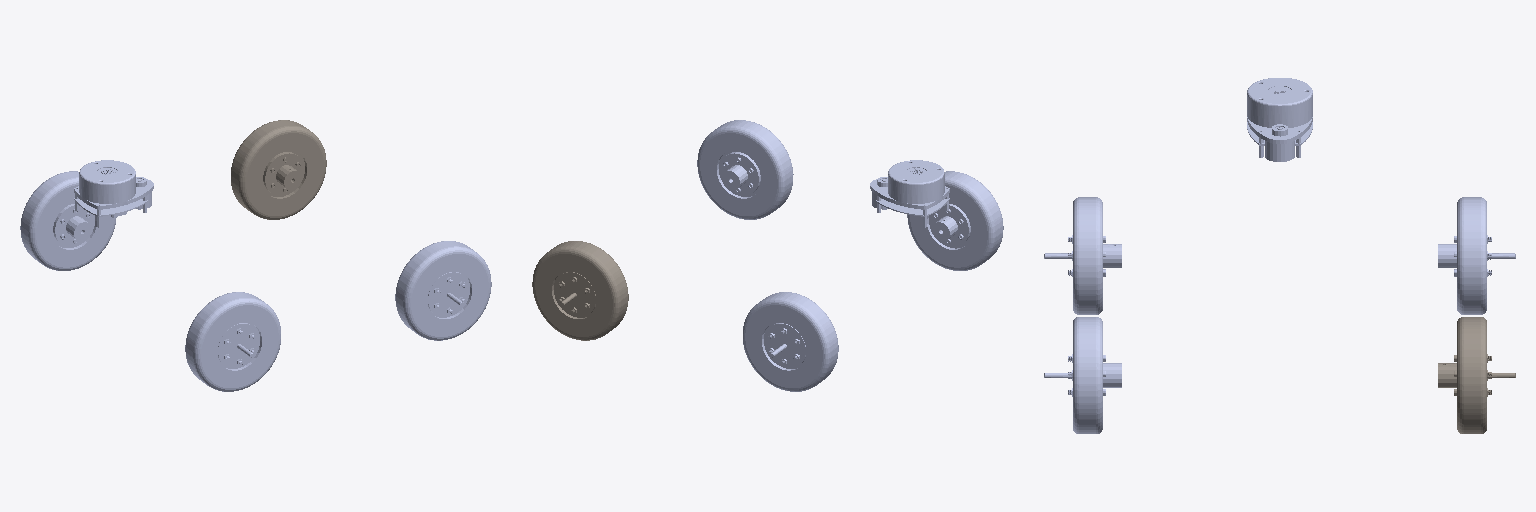
The robot description file, URDF, robot "hello":
<?xml version="1.0" encoding="utf-8"?>
<!-- This URDF was automatically created by SolidWorks to URDF Exporter! Originally created by [author] ([email redacted]) 
     Commit Version: 1.6.0-1-g15f4949  Build Version: 1.6.7594.29634
     For more information, please see http://wiki.ros.org/sw_urdf_exporter -->
<robot
  name="hello">
  <link
    name="base_link">
    <inertial>
      <origin
        xyz="-0.0115961375393338 0.141112194162708 4.16006760022607E-06"
        rpy="0 0 0" />
      <mass
        value="9.86715620266818" />
      <inertia
        ixx="0.132677989046086"
        ixy="-9.70160338003661E-05"
        ixz="-3.75107838296442E-07"
        iyy="0.260475914071983"
        iyz="6.96544013264117E-10"
        izz="0.137987912791742" />
    </inertial>
    <visual>
      <origin
        xyz="0 0 0"
        rpy="0 0 0" />
      <geometry>
        <mesh
          filename="package://hello/meshes/base_link.STL" />
      </geometry>
      <material
        name="">
        <color
          rgba="0.776470588235294 0.756862745098039 0.737254901960784 1" />
      </material>
    </visual>
    <collision>
      <origin
        xyz="0 0 0"
        rpy="0 0 0" />
      <geometry>
        <mesh
          filename="package://hello/meshes/base_link.STL" />
      </geometry>
    </collision>
  </link>
  <link
    name="Wheel1">
    <inertial>
      <origin
        xyz="0.0358925313422561 1.33013962899664E-08 -1.40306321785855E-06"
        rpy="0 0 0" />
      <mass
        value="1.08683454285844" />
      <inertia
        ixx="0.00199172568972123"
        ixy="4.18773380188281E-10"
        ixz="-4.24537357161986E-08"
        iyy="0.0010927579015596"
        iyz="-1.3053432125357E-10"
        izz="0.00109277152504694" />
    </inertial>
    <visual>
      <origin
        xyz="0 0 0"
        rpy="0 0 0" />
      <geometry>
        <mesh
          filename="package://hello/meshes/Wheel1.STL" />
      </geometry>
      <material
        name="">
        <color
          rgba="0.792156862745098 0.819607843137255 0.933333333333333 1" />
      </material>
    </visual>
    <collision>
      <origin
        xyz="0 0 0"
        rpy="0 0 0" />
      <geometry>
        <mesh
          filename="package://hello/meshes/Wheel1.STL" />
      </geometry>
    </collision>
  </link>
  <joint
    name="Wheel2"
    type="continuous">
    <origin
      xyz="-0.150000000000006 0.168 0.062499999999979"
      rpy="3.13669699771824 0 1.5707963267949" />
    <parent
      link="base_link" />
    <child
      link="Wheel1" />
    <axis
      xyz="1 0 0" />
  </joint>
  <link
    name="Wheel3">
    <inertial>
      <origin
        xyz="0.0358925313421825 1.41750076398939E-08 1.40305468546154E-06"
        rpy="0 0 0" />
      <mass
        value="1.08683454285396" />
      <inertia
        ixx="0.00199172568972123"
        ixy="4.12609301156856E-10"
        ixz="4.24537960605034E-08"
        iyy="0.00109275790167215"
        iyz="1.36281157753119E-10"
        izz="0.00109277152493439" />
    </inertial>
    <visual>
      <origin
        xyz="0 0 0"
        rpy="0 0 0" />
      <geometry>
        <mesh
          filename="package://hello/meshes/Wheel3.STL" />
      </geometry>
      <material
        name="">
        <color
          rgba="0.792156862745098 0.819607843137255 0.933333333333333 1" />
      </material>
    </visual>
    <collision>
      <origin
        xyz="0 0 0"
        rpy="0 0 0" />
      <geometry>
        <mesh
          filename="package://hello/meshes/Wheel3.STL" />
      </geometry>
    </collision>
  </link>
  <joint
    name="Wheel4"
    type="continuous">
    <origin
      xyz="-0.150000000000008 -0.168 0.062499999999968"
      rpy="-3.13669699771824 0 -1.5707963267949" />
    <parent
      link="base_link" />
    <child
      link="Wheel3" />
    <axis
      xyz="1 0 0" />
  </joint>
  <link
    name="Wheel5">
    <inertial>
      <origin
        xyz="0.0358925313422561 -4.36851138596595E-10 -1.40312619897887E-06"
        rpy="0 0 0" />
      <mass
        value="1.08683454285844" />
      <inertia
        ixx="0.00199172568972123"
        ixy="3.0821872261417E-12"
        ixz="-4.2455800992384E-08"
        iyy="0.0010927579003096"
        iyz="2.87399277655229E-12"
        izz="0.00109277152629695" />
    </inertial>
    <visual>
      <origin
        xyz="0 0 0"
        rpy="0 0 0" />
      <geometry>
        <mesh
          filename="package://hello/meshes/Wheel5.STL" />
      </geometry>
      <material
        name="">
        <color
          rgba="0.792156862745098 0.819607843137255 0.933333333333333 1" />
      </material>
    </visual>
    <collision>
      <origin
        xyz="0 0 0"
        rpy="0 0 0" />
      <geometry>
        <mesh
          filename="package://hello/meshes/Wheel5.STL" />
      </geometry>
    </collision>
  </link>
  <joint
    name="Wheel6"
    type="continuous">
    <origin
      xyz="0.150000000000006 -0.168 0.0624999999999788"
      rpy="-3.13669699771824 0 -1.5707963267949" />
    <parent
      link="base_link" />
    <child
      link="Wheel5" />
    <axis
      xyz="1 0 0" />
  </joint>
  <link
    name="Wheel7">
    <inertial>
      <origin
        xyz="0.0358925313421826 1.21536136293843E-06 7.01184832307966E-07"
        rpy="0 0 0" />
      <mass
        value="1.08683454285396" />
      <inertia
        ixx="0.00199172568972123"
        ixy="3.6766261093403E-08"
        ixz="2.1230569742561E-08"
        iyy="0.00109276812228902"
        iyz="5.89878862582486E-09"
        izz="0.00109276130431752" />
    </inertial>
    <visual>
      <origin
        xyz="0 0 0"
        rpy="0 0 0" />
      <geometry>
        <mesh
          filename="package://hello/meshes/Wheel7.STL" />
      </geometry>
      <material
        name="">
        <color
          rgba="0.650980392156863 0.619607843137255 0.588235294117647 1" />
      </material>
    </visual>
    <collision>
      <origin
        xyz="0 0 0"
        rpy="0 0 0" />
      <geometry>
        <mesh
          filename="package://hello/meshes/Wheel7.STL" />
      </geometry>
    </collision>
  </link>
  <joint
    name="Wheel8"
    type="continuous">
    <origin
      xyz="0.150000000000006 0.168 0.0624999999999788"
      rpy="-2.09929075826474 0 1.5707963267949" />
    <parent
      link="base_link" />
    <child
      link="Wheel7" />
    <axis
      xyz="1 0 0" />
  </joint>
  <link
    name="Lidar">
    <inertial>
      <origin
        xyz="-0.0074834698833364 0.0106681277328402 9.19261110886561E-05"
        rpy="0 0 0" />
      <mass
        value="1.33076913637071" />
      <inertia
        ixx="0.00061491794045409"
        ixy="0.00015824302591117"
        ixz="8.01984318975301E-07"
        iyy="0.00109815200027136"
        iyz="3.0916298658758E-06"
        izz="0.000960697335617222" />
    </inertial>
    <visual>
      <origin
        xyz="0 0 0"
        rpy="0 0 0" />
      <geometry>
        <mesh
          filename="package://hello/meshes/Lidar.STL" />
      </geometry>
      <material
        name="">
        <color
          rgba="0.792156862745098 0.819607843137255 0.933333333333333 1" />
      </material>
    </visual>
    <collision>
      <origin
        xyz="0 0 0"
        rpy="0 0 0" />
      <geometry>
        <mesh
          filename="package://hello/meshes/Lidar.STL" />
      </geometry>
    </collision>
  </link>
  <joint
    name="Lidar1"
    type="fixed">
    <origin
      xyz="-0.19775 0 0.194099999999983"
      rpy="1.5707963267949 0 0" />
    <parent
      link="base_link" />
    <child
      link="Lidar" />
    <axis
      xyz="0 0 0" />
  </joint>
</robot>

--- Render facts (derived) ---
3 views of the same robot in one strip: view 1: azimuth 30°, elevation 25°; view 2: azimuth 150°, elevation 25°; view 3: azimuth 270°, elevation 25° (orthographic).
Model hello with 6 links and 5 joints (4 continuous, 1 fixed), rooted at base_link, posed all joints at 0.
Links seen in each view (by area): view 1: Wheel5, Wheel3, Wheel7, Wheel1, Lidar; view 2: Wheel7, Wheel1, Wheel5, Wheel3, Lidar; view 3: Lidar, Wheel1, Wheel3, Wheel5, Wheel7.
Boxes of the visible links, x1,y1,x2,y2 form: Wheel5: [395, 241, 491, 340]; Wheel3: [185, 292, 280, 391]; Wheel7: [231, 120, 326, 219]; Wheel1: [20, 171, 116, 270]; Lidar: [74, 160, 153, 227]; Wheel7: [532, 241, 628, 340]; Wheel1: [743, 292, 838, 391]; Wheel5: [697, 120, 793, 219]; Wheel3: [907, 171, 1003, 270]; Lidar: [870, 160, 949, 227]; Lidar: [1247, 78, 1312, 161]; Wheel1: [1438, 197, 1515, 314]; Wheel3: [1044, 197, 1121, 314]; Wheel5: [1044, 317, 1121, 433]; Wheel7: [1438, 317, 1515, 433].
Bounding box of the posed robot: 0.4594 × 0.5 × 0.2272 m (x, y, z).
5 mesh visuals loaded from 6 distinct referenced files (5 binary STL); not drawn: 1 (reference not matched to a file when rendering).